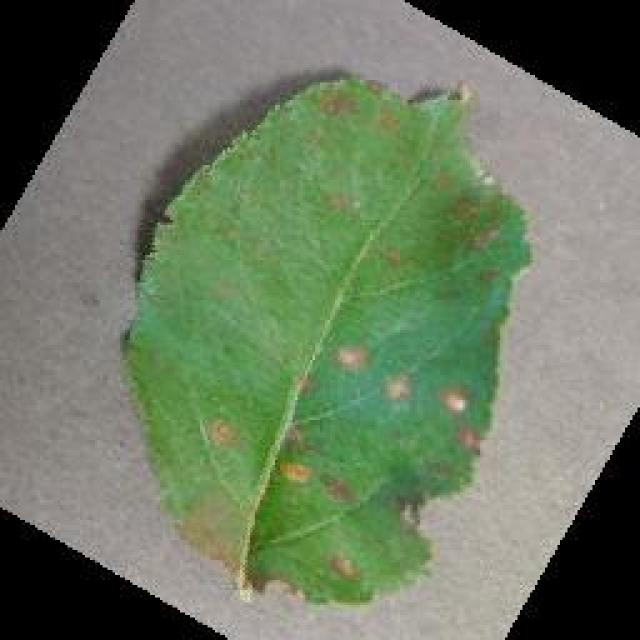apple rust disease: (118, 72, 532, 608)
